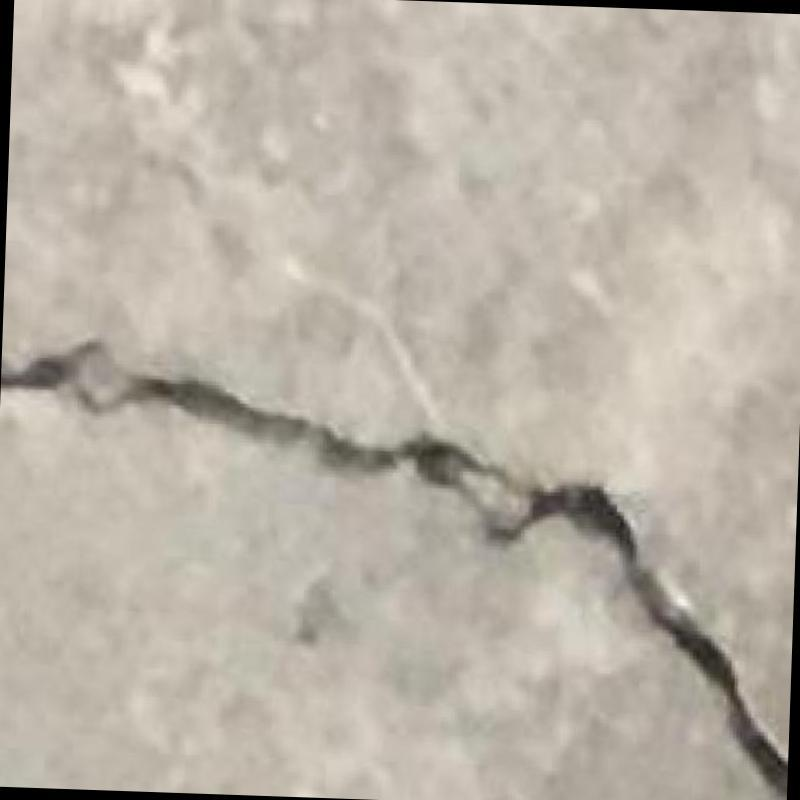pothole: (0, 340, 787, 794)
